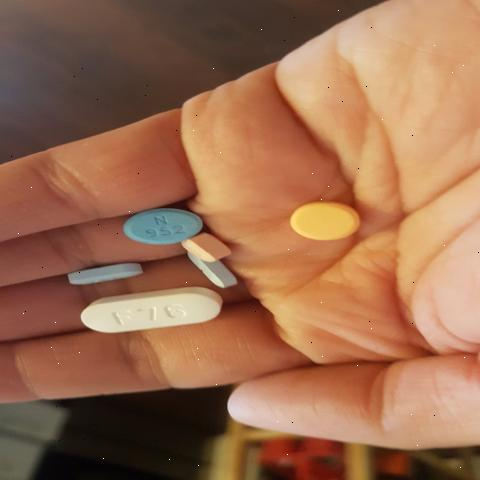Pill: (46, 285, 235, 334), (270, 188, 368, 258)
